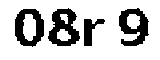0: (12, 6, 46, 49)
8: (46, 6, 81, 52)
9: (115, 5, 151, 52)
r: (82, 17, 107, 53)
